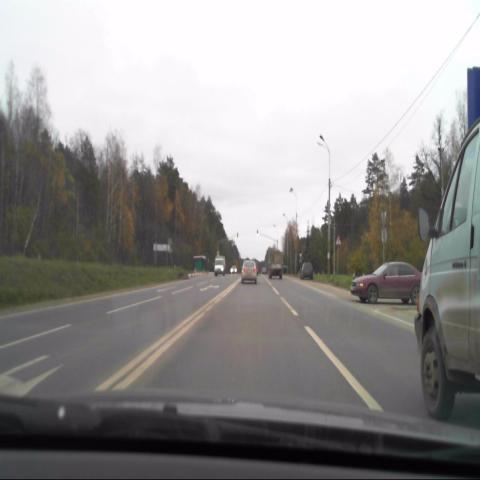1_22: (334, 234, 342, 248)
